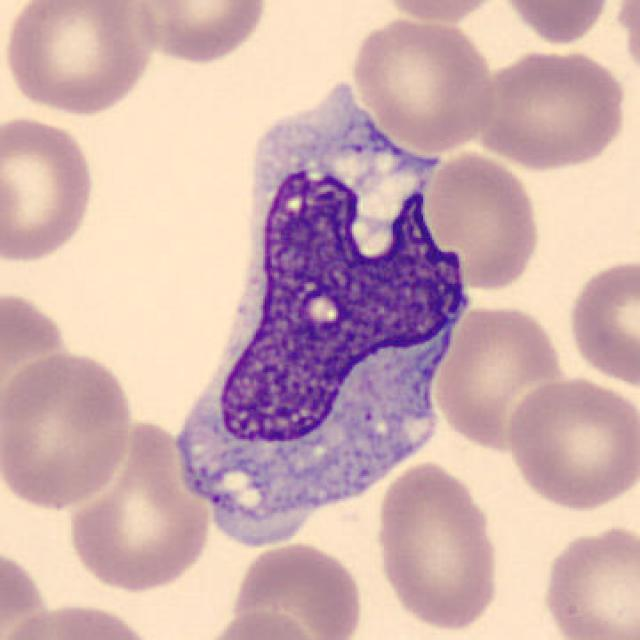Monocyte: (155, 67, 480, 543)
RBC: (62, 416, 215, 598), (371, 458, 505, 635), (0, 347, 139, 513), (346, 10, 499, 154), (428, 300, 570, 450), (471, 44, 631, 173), (0, 0, 162, 118), (502, 374, 638, 513), (421, 146, 544, 293), (0, 111, 100, 266), (227, 537, 368, 640), (0, 289, 71, 460), (537, 520, 638, 640), (563, 253, 640, 391), (126, 0, 272, 65), (2, 599, 162, 640), (496, 0, 613, 48), (0, 544, 53, 638), (194, 608, 325, 640), (370, 0, 510, 25), (615, 0, 638, 86)
